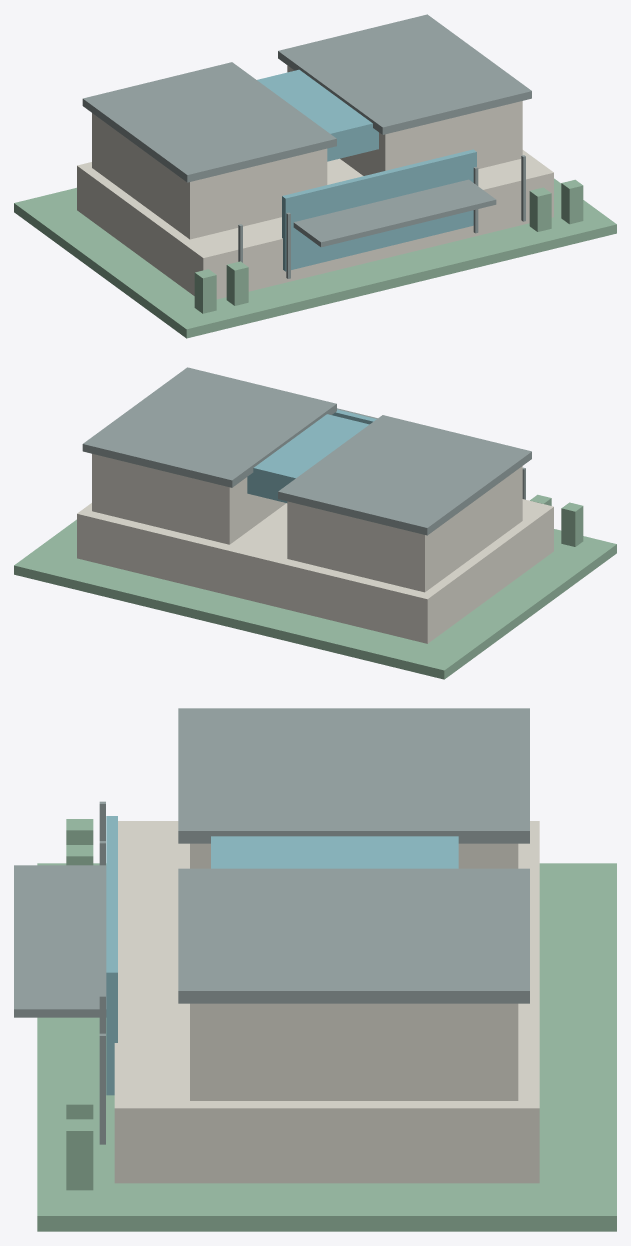
File: civic-building.glb
3 views of the same model, one above another, from view 1: azimuth 30°, elevation 25°; view 2: azimuth 150°, elevation 25°; view 3: azimuth 270°, elevation 25° (orthographic). The views are drawn at different scales.
Parts seen in each view (by area): view 1: ground plane, public podium, left roof, right roof, north gallery, central atrium glazing, south gallery, entrance canopy, upper glass bridge, tree 4.6, tree -3.8, tree -4.6 (+1 smaller); view 2: public podium, ground plane, left roof, right roof, north gallery, south gallery, upper glass bridge, tree -4.6; view 3: ground plane, public podium, right roof, left roof, south gallery, entrance canopy, upper glass bridge, central atrium glazing, north gallery, tree 4.6, facade mullion 3.55, tree 3.8 (+1 smaller).
Boxes of the visible parts, box(x1,y1,x2,y2) form: ground plane: box(14, 178, 616, 338); public podium: box(77, 150, 553, 299); left roof: box(82, 62, 336, 182); right roof: box(278, 14, 531, 134); north gallery: box(92, 113, 327, 239); central atrium glazing: box(282, 149, 476, 271); south gallery: box(287, 65, 522, 175); entrance canopy: box(293, 179, 496, 247); upper glass bridge: box(257, 69, 378, 161); tree 4.6: box(561, 179, 583, 224); tree -3.8: box(226, 261, 248, 305); tree -4.6: box(194, 269, 216, 313); public podium: box(77, 499, 553, 643); ground plane: box(14, 519, 616, 679); left roof: box(278, 415, 531, 535); right roof: box(82, 367, 336, 487); north gallery: box(287, 466, 522, 592); south gallery: box(92, 454, 286, 544); upper glass bridge: box(247, 414, 369, 502); tree -4.6: box(561, 502, 583, 546); ground plane: box(37, 863, 616, 1231); public podium: box(114, 821, 539, 1183); right roof: box(178, 868, 529, 1003); left roof: box(178, 708, 529, 843); south gallery: box(190, 1003, 518, 1100); entrance canopy: box(14, 865, 106, 1017); upper glass bridge: box(211, 836, 458, 868); central atrium glazing: box(106, 816, 117, 1095); north gallery: box(190, 843, 518, 868); tree 4.6: box(66, 1119, 93, 1190); facade mullion 3.55: box(99, 1033, 105, 1144); tree 3.8: box(66, 1093, 93, 1119).
Size of the model in its own units: 10.8 by 2.93 by 7.8.
